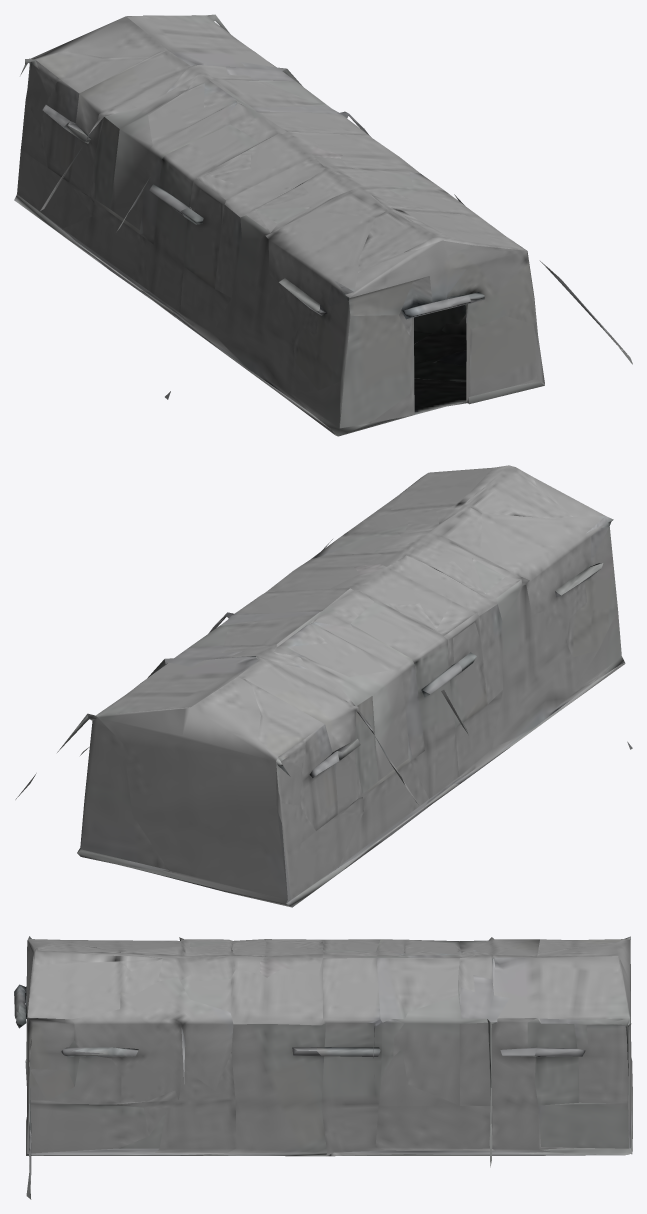
File: tenda_roder_kecil_lod2.glb
3 views of the same model, one above another, from view 1: azimuth 30°, elevation 25°; view 2: azimuth 150°, elevation 25°; view 3: azimuth 270°, elevation 25° (orthographic). The views are drawn at different scales.
Visible parts, largest first — view 1: tripo_node_33ec0ede; view 2: tripo_node_33ec0ede; view 3: tripo_node_33ec0ede.
Part boxes in pixels (x1,y1,x2,y2): tripo_node_33ec0ede: (14, 14, 632, 436); tripo_node_33ec0ede: (15, 465, 632, 907); tripo_node_33ec0ede: (14, 936, 632, 1199).
Size of the model in its own units: 67.65 by 28.78 by 100.
1 material, 1 textured.
